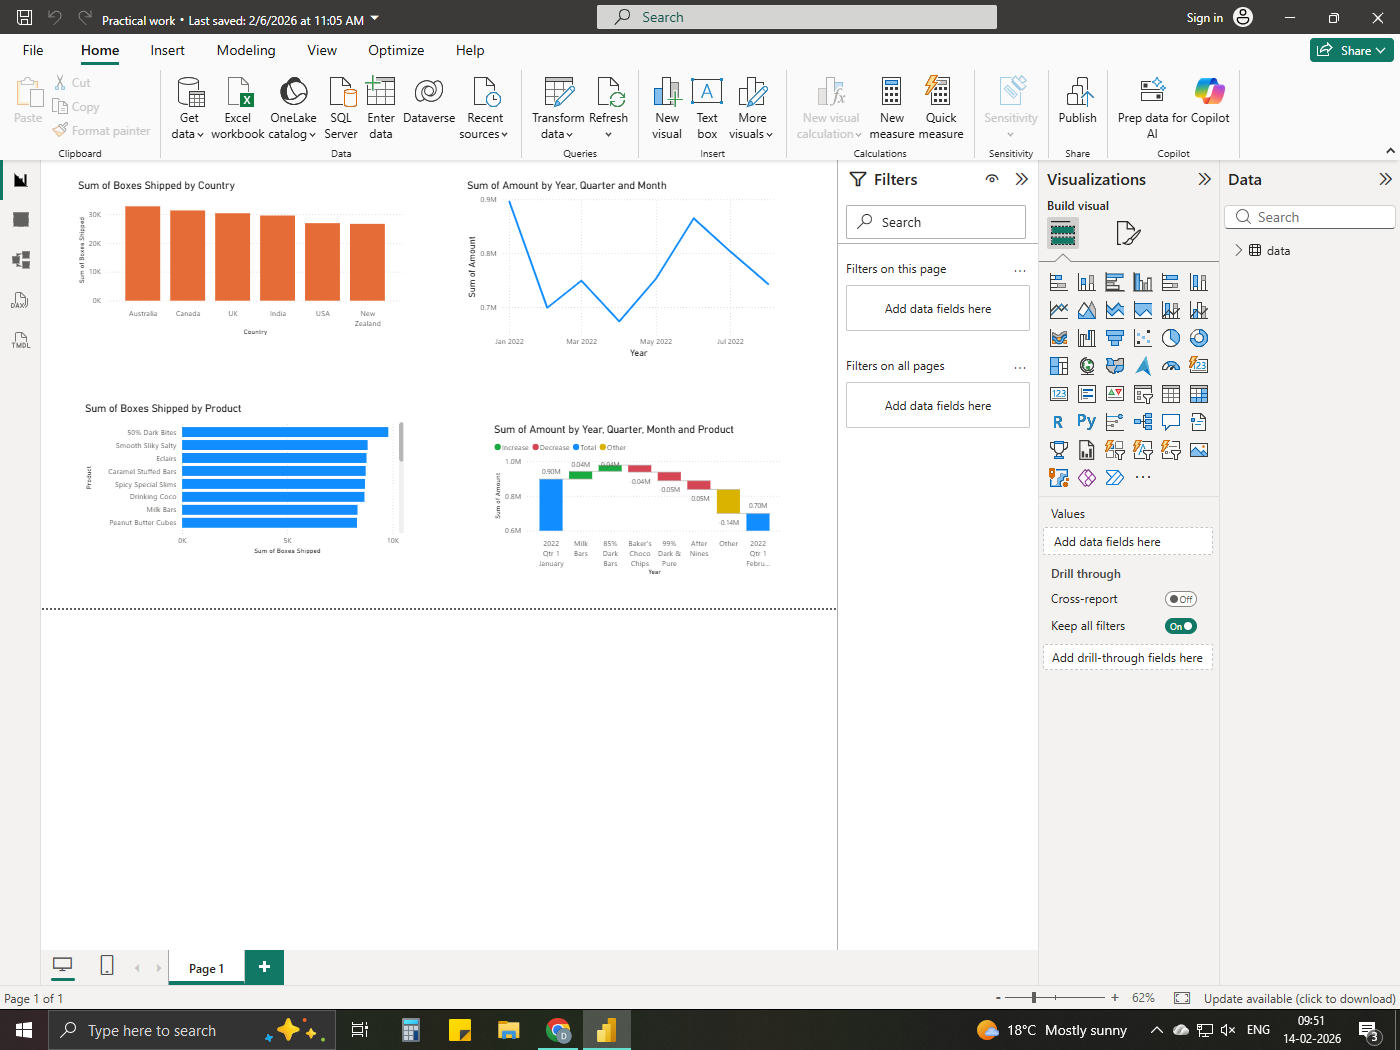

The dashboard page shown, as its layout file describes it:
{"tool":"powerbi","page":{"name":"Page 1","canvas":[1280,720],"ordinal":0},"visuals":[{"type":"columnChart","fields":{"Category":["data.Country"],"Y":["Sum(data.Boxes Shipped)"]},"box":[54.7,30.6,533.9,255.7],"z":0},{"type":"barChart","fields":{"Category":["data.Product"],"Y":["Sum(data.Boxes Shipped)"]},"box":[65.9,389.1,522.6,249.2],"z":1000},{"type":"lineChart","fields":{"Category":["data.Date.Variation.Date Hierarchy.Year","data.Date.Variation.Date Hierarchy.Quarter","data.Date.Variation.Date Hierarchy.Month","data.Date.Variation.Date Hierarchy.Day"],"Y":["Sum(data.Amount)"]},"box":[680.2,30.6,516.2,292.7],"z":2000},{"type":"waterfallChart","fields":{"Category":["data.Date.Variation.Date Hierarchy.Year","data.Date.Variation.Date Hierarchy.Quarter","data.Date.Variation.Date Hierarchy.Month"],"Breakdown":["data.Product"],"Y":["Sum(data.Amount)"]},"box":[723.6,422.9,472.8,249.2],"z":3000}]}

Visuals, with their boxes on the page's 1280x720 design canvas (x1, y1, x2, y2). These are canvas units, not pixel positions in the 1400x1050 screenshot, which may show the page scaled, cropped or inside an application window:
columnChart - data.Country x Sum(data.Boxes Shipped): [x1=55, y1=31, x2=589, y2=286]
barChart - data.Product x Sum(data.Boxes Shipped): [x1=66, y1=389, x2=588, y2=638]
lineChart - data.Date.Variation.Date Hierarchy.Year x data.Date.Variation.Date Hierarchy.Quarter: [x1=680, y1=31, x2=1196, y2=323]
waterfallChart - data.Date.Variation.Date Hierarchy.Year x data.Date.Variation.Date Hierarchy.Quarter: [x1=724, y1=423, x2=1196, y2=672]
